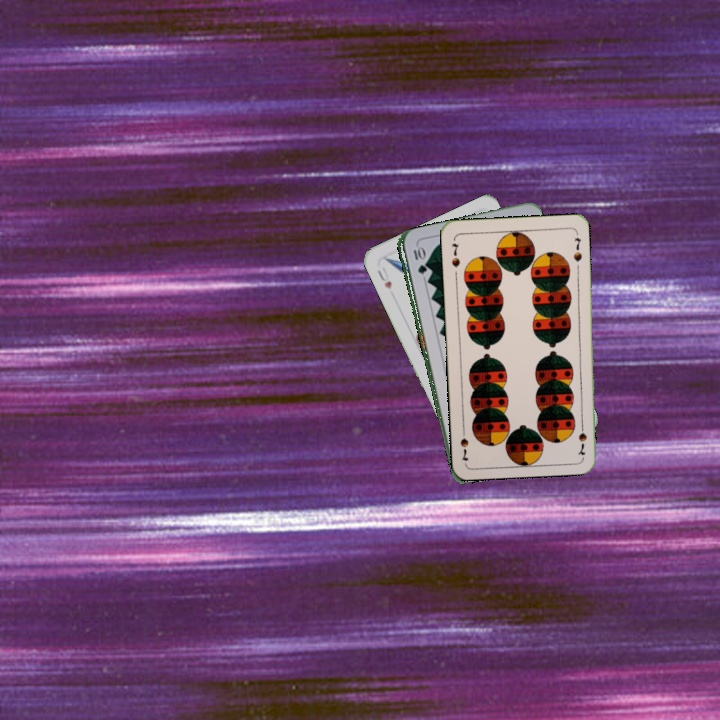G10: (409, 243, 427, 277)
HU: (373, 263, 394, 292)
S7: (574, 417, 589, 457), (448, 239, 462, 270)
